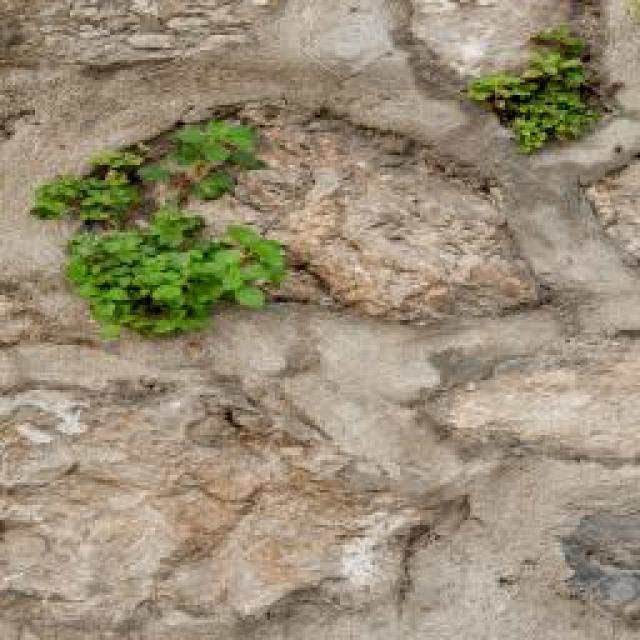crack: (1, 1, 638, 637)
vegetation: (29, 115, 289, 341), (464, 24, 609, 154)
